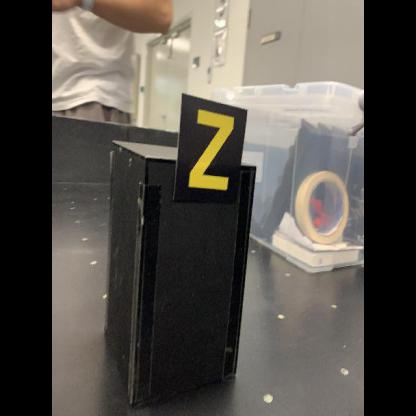z: (169, 90, 249, 205)
